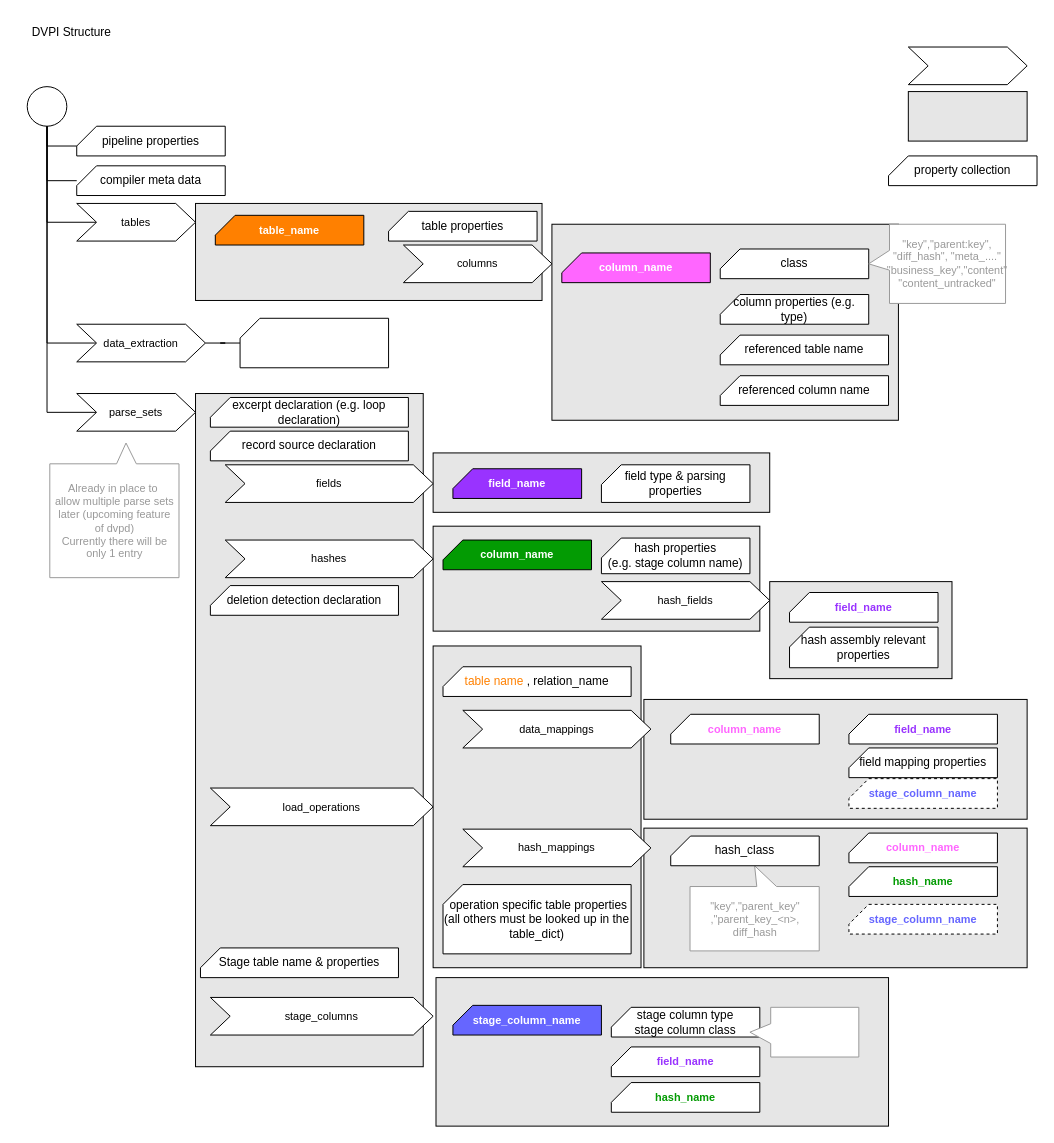
Some shapes in this 1054 by 1143 pixel diagram are drawn without their labels. The box of each missing label's shape, as (x1, y1, x2, y2) in pixels:
"data","hash": (749, 1006, 859, 1057)
array element: (907, 91, 1027, 141)
extraction specific declaration (e.g. incremtent method): (239, 317, 389, 368)
key for a sub object: (907, 46, 1027, 85)
